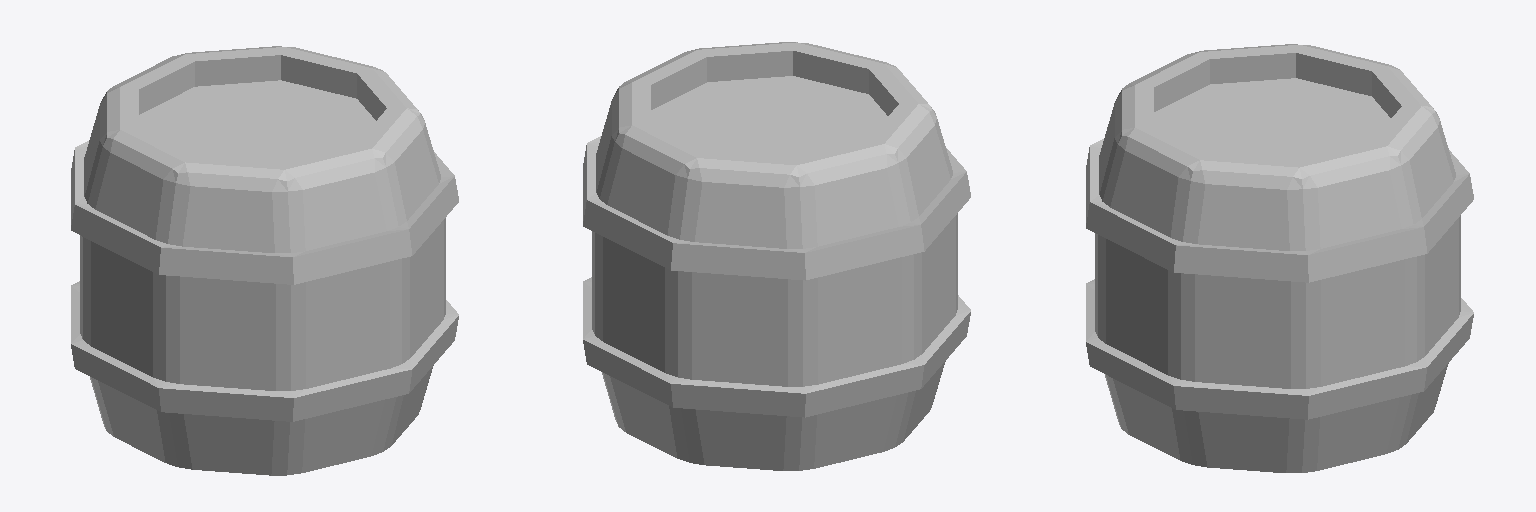
3 views of the same model, side by side, from view 1: azimuth 30°, elevation 25°; view 2: azimuth 150°, elevation 25°; view 3: azimuth 270°, elevation 25° (orthographic).
Parts seen in each view (by area): view 1: Barrel_(Tabung_Anggur).001; view 2: Barrel_(Tabung_Anggur).001; view 3: Barrel_(Tabung_Anggur).001.
Boxes of the visible parts, x1,y1,x2,y2 form: Barrel_(Tabung_Anggur).001: [71, 46, 458, 475]; Barrel_(Tabung_Anggur).001: [583, 42, 970, 470]; Barrel_(Tabung_Anggur).001: [1086, 44, 1473, 472].
Size of the model in its own units: 2.39 by 2 by 2.35.